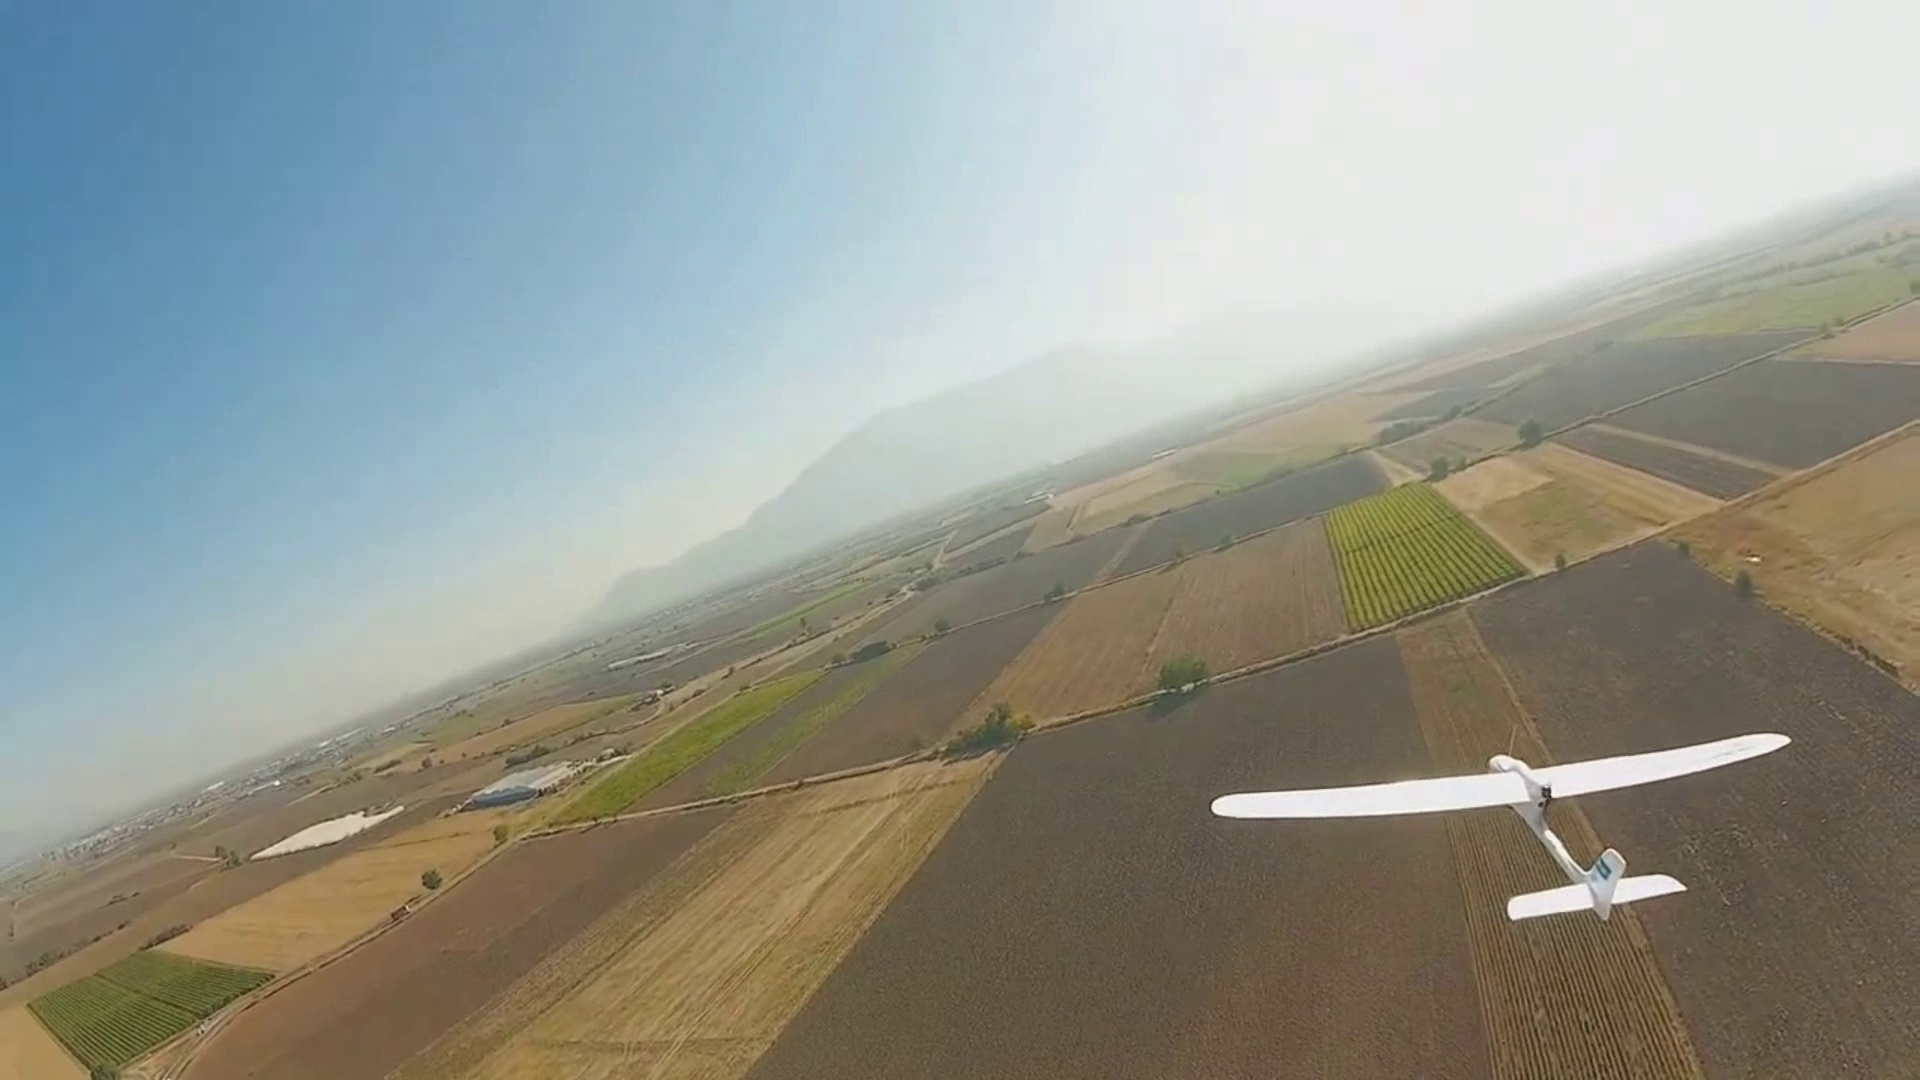airplane: (43, 156, 1919, 958)
